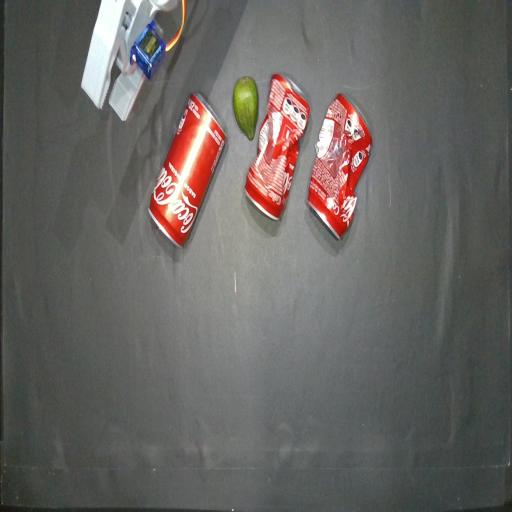higo: (233, 76, 258, 139)
lata: (148, 92, 226, 247)
lata_defectuoso: (245, 74, 310, 220), (307, 93, 372, 239)
